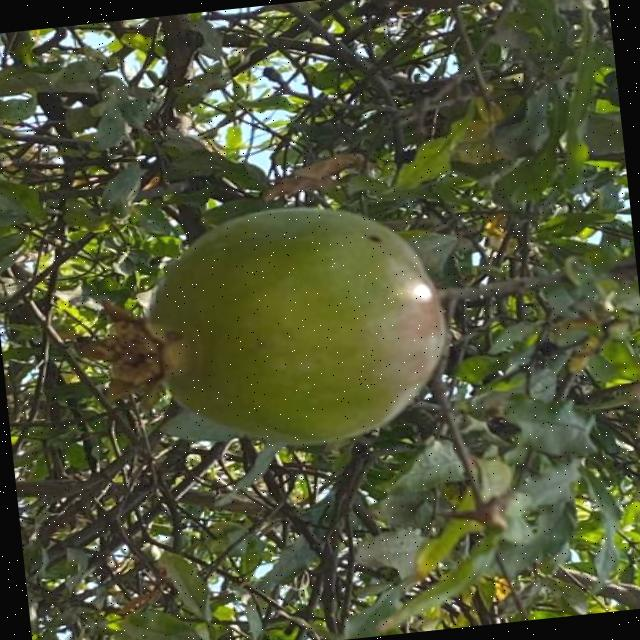Unripe: (67, 193, 462, 466)
